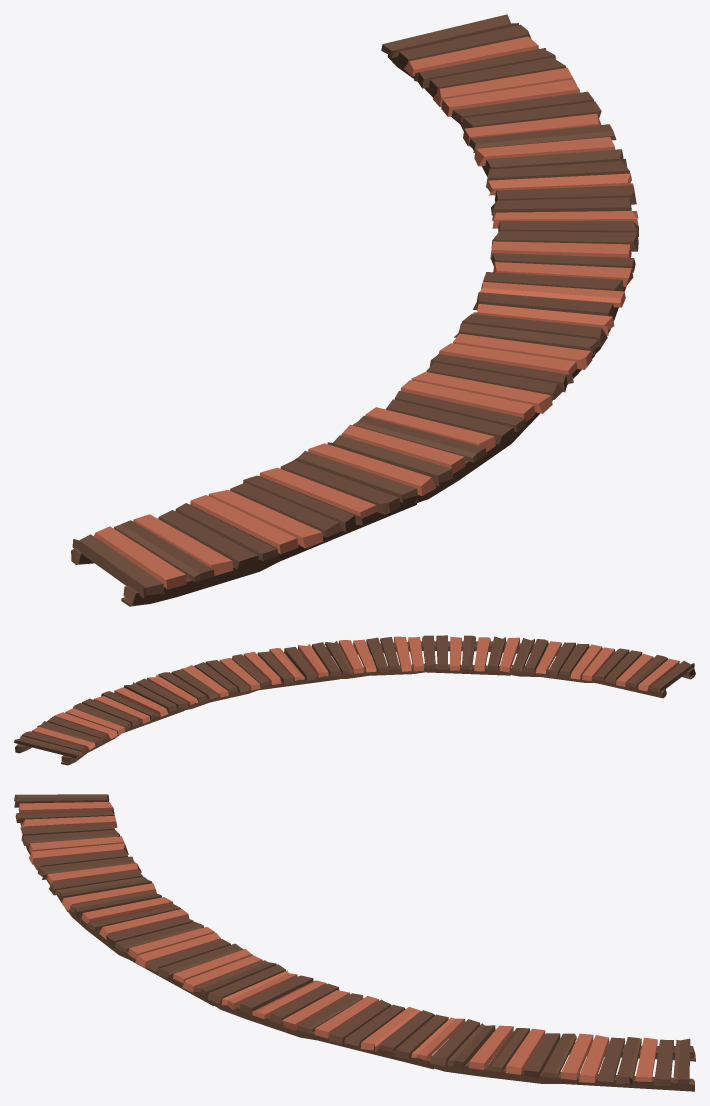
File: Bridge_Curve_01.fbx
The picture shows the model from 3 angles, top to bottom: view 1: azimuth 30°, elevation 25°; view 2: azimuth 150°, elevation 25°; view 3: azimuth 270°, elevation 25°; orthographic projection. The views are drawn at different scales.
Parts seen in each view (by area): view 1: SM_Env_Train_Track_Bridge_Top_Curve_01; view 2: SM_Env_Train_Track_Bridge_Top_Curve_01; view 3: SM_Env_Train_Track_Bridge_Top_Curve_01.
Part boxes in pixels (box(x1,y1,x2,y2)): SM_Env_Train_Track_Bridge_Top_Curve_01: box(71, 14, 638, 606); SM_Env_Train_Track_Bridge_Top_Curve_01: box(14, 635, 695, 765); SM_Env_Train_Track_Bridge_Top_Curve_01: box(14, 794, 695, 1091).
Bounding box in the file's own units: 2700 × 61.83 × 2703.
